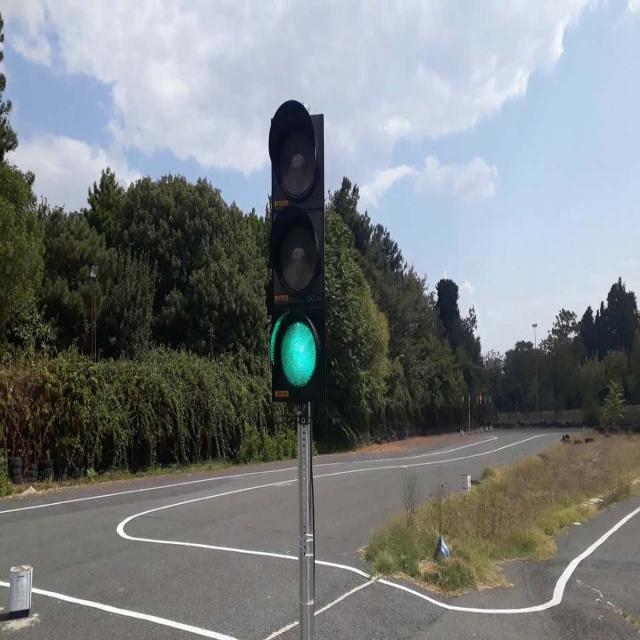yesil: (270, 104, 322, 398)
